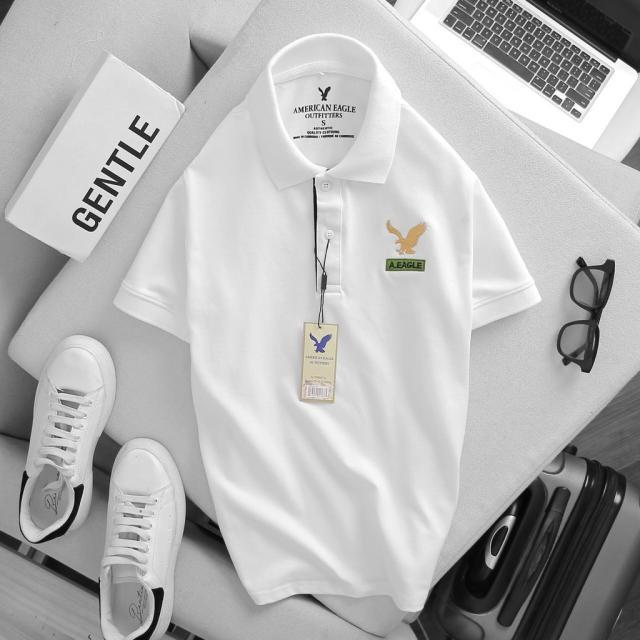Shirt: (107, 28, 547, 620)
